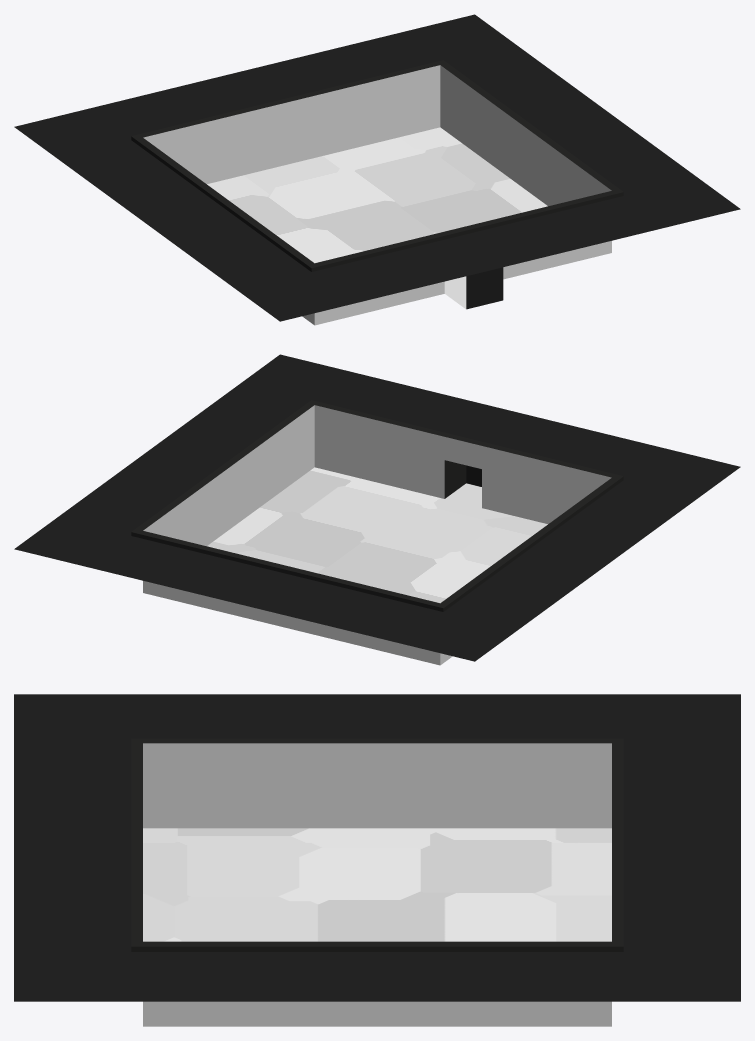
File: Room1x1x1.fbx
3 views of the same model, one above another, from view 1: azimuth 30°, elevation 25°; view 2: azimuth 150°, elevation 25°; view 3: azimuth 270°, elevation 25° (orthographic). The views are drawn at different scales.
Parts seen in each view (by area): view 1: Room_1x1x1; view 2: Room_1x1x1; view 3: Room_1x1x1.
Part boxes in pixels (box(x1,y1,x2,y2)): Room_1x1x1: box(14, 14, 740, 325); Room_1x1x1: box(14, 354, 740, 665); Room_1x1x1: box(14, 694, 740, 1026).
Bounding box in the file's own units: 62 × 62 × 8.
